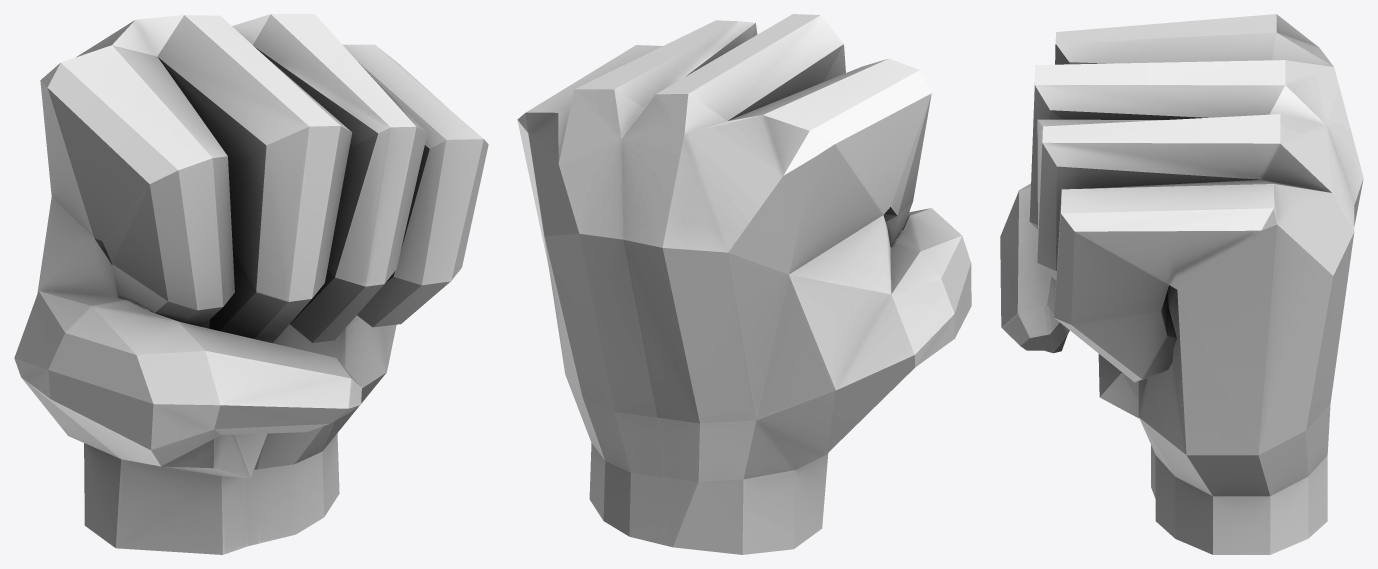
File: hand.dae
3 renders of one model, left to right at view 1: azimuth 30°, elevation 25°; view 2: azimuth 150°, elevation 25°; view 3: azimuth 270°, elevation 25°, orthographic. The views are drawn at different scales.
Parts seen in each view (by area): view 1: pCube1; view 2: pCube1; view 3: pCube1.
Boxes of the visible parts, box(x1,y1,x2,y2) form: pCube1: box(14, 14, 488, 554); pCube1: box(517, 14, 971, 554); pCube1: box(1000, 14, 1363, 554).
Size of what is drawn, in the model's own units: 3.11 by 2.55 by 3.43.
1 material, 1 textured.
